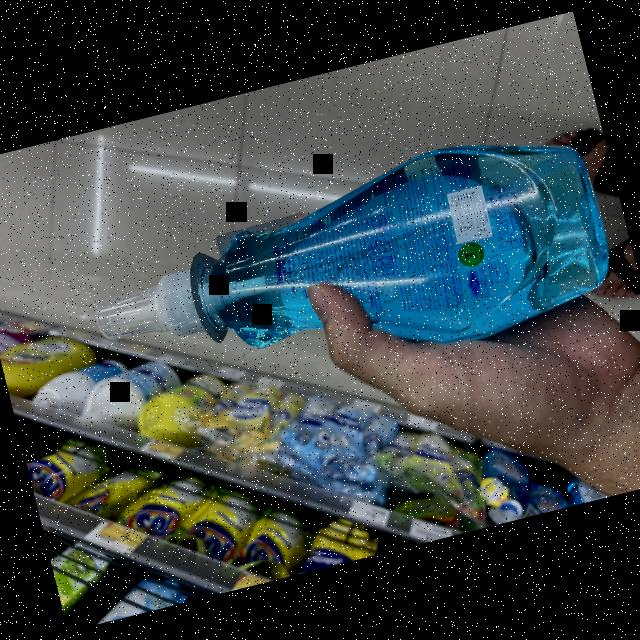chemical_plastic_bottle: (69, 106, 633, 428)
